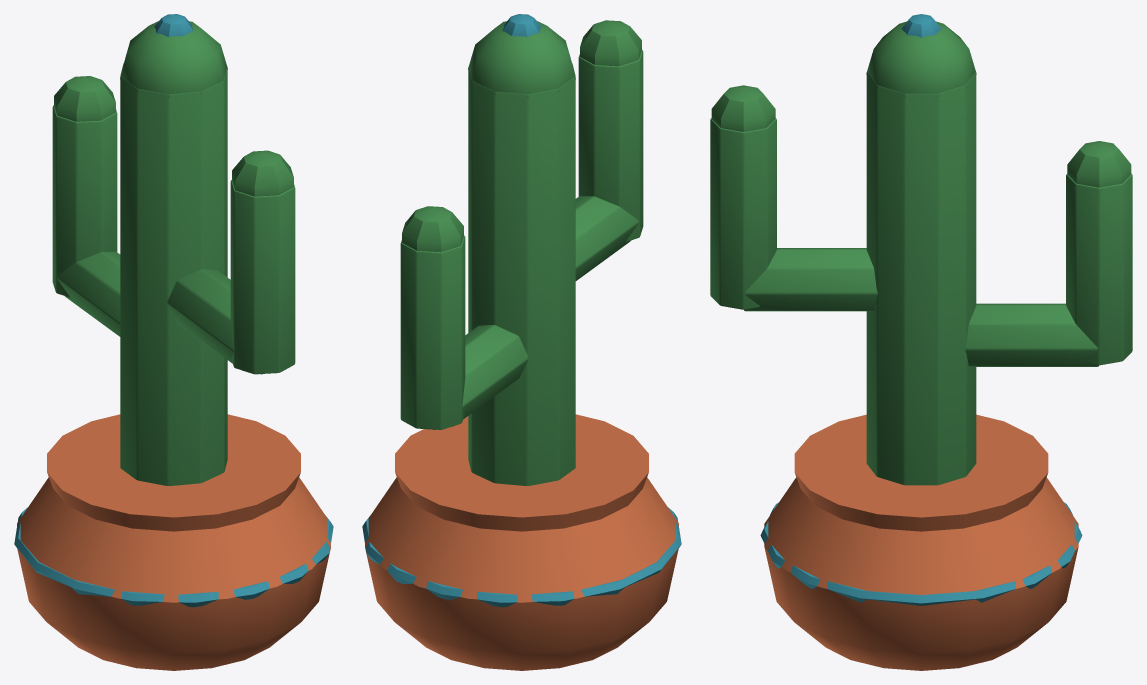
File: HeroDesert.fbx
3 views of the same model, side by side, from view 1: azimuth 30°, elevation 25°; view 2: azimuth 150°, elevation 25°; view 3: azimuth 270°, elevation 25° (orthographic).
Parts seen in each view (by area): view 1: HeroDesert; view 2: HeroDesert; view 3: HeroDesert.
Part boxes in pixels (<box>): HeroDesert: <box>14,14,333,670</box>; HeroDesert: <box>362,14,681,670</box>; HeroDesert: <box>710,14,1132,670</box>.
Size of the model in its own units: 525 by 1095 by 689.
